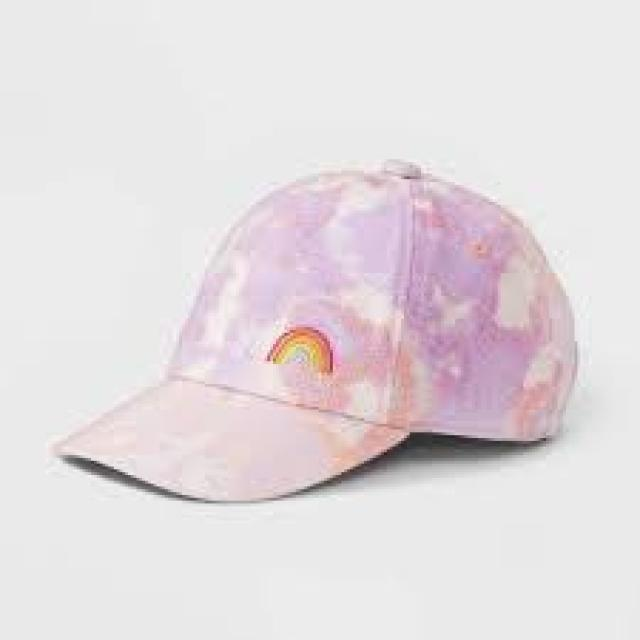cap: (35, 128, 596, 544)
